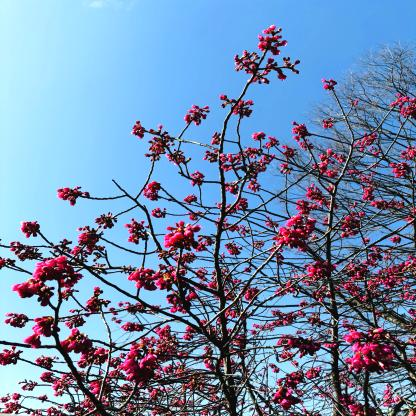Ume: (4, 24, 416, 416)
